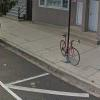Bicycle: (55, 25, 89, 73)
